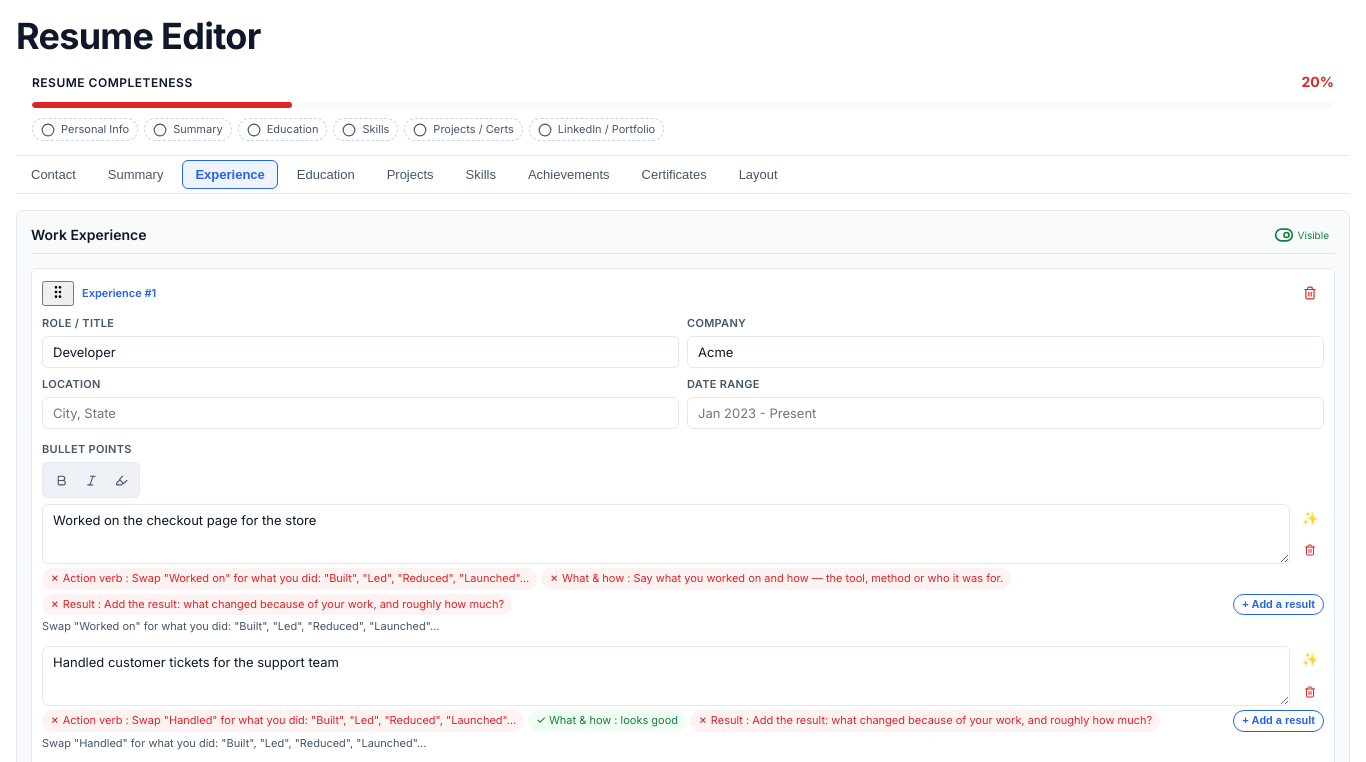
Scenario: AI bullet results arriving late › does not apply when the bullet text changed, and says so
Click the 1st button titled "Enhance bullet point with AI" at x=1310, y=518, box 1296,504 -> 1324,532
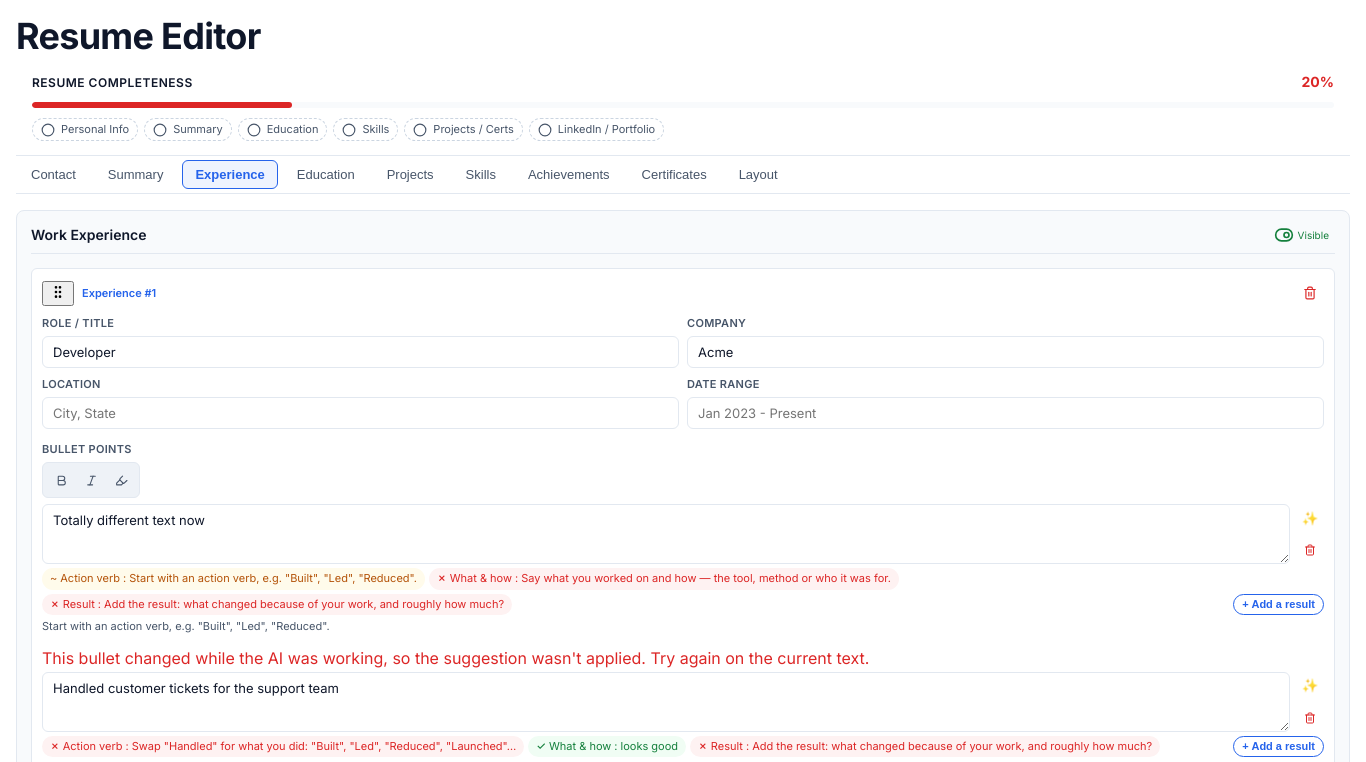
Now the message shows "changed while the AI was working", box 42,648 -> 869,668
